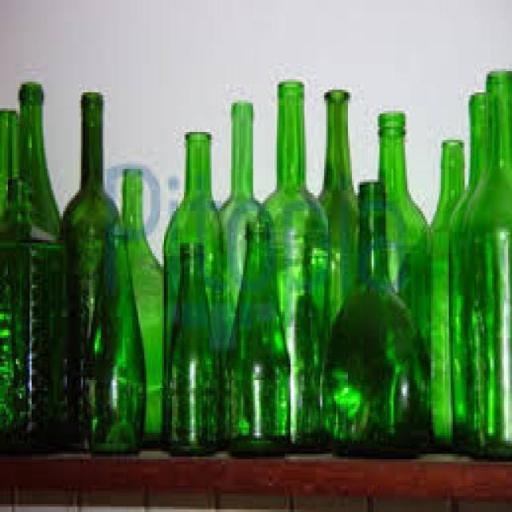glass: (314, 166, 442, 472), (259, 82, 332, 450), (1, 84, 67, 448), (60, 90, 122, 450), (456, 70, 510, 456), (162, 130, 226, 446), (225, 219, 289, 450), (115, 161, 170, 429), (88, 216, 147, 450), (376, 110, 426, 325), (218, 101, 264, 327), (318, 89, 360, 321), (14, 82, 61, 238)
